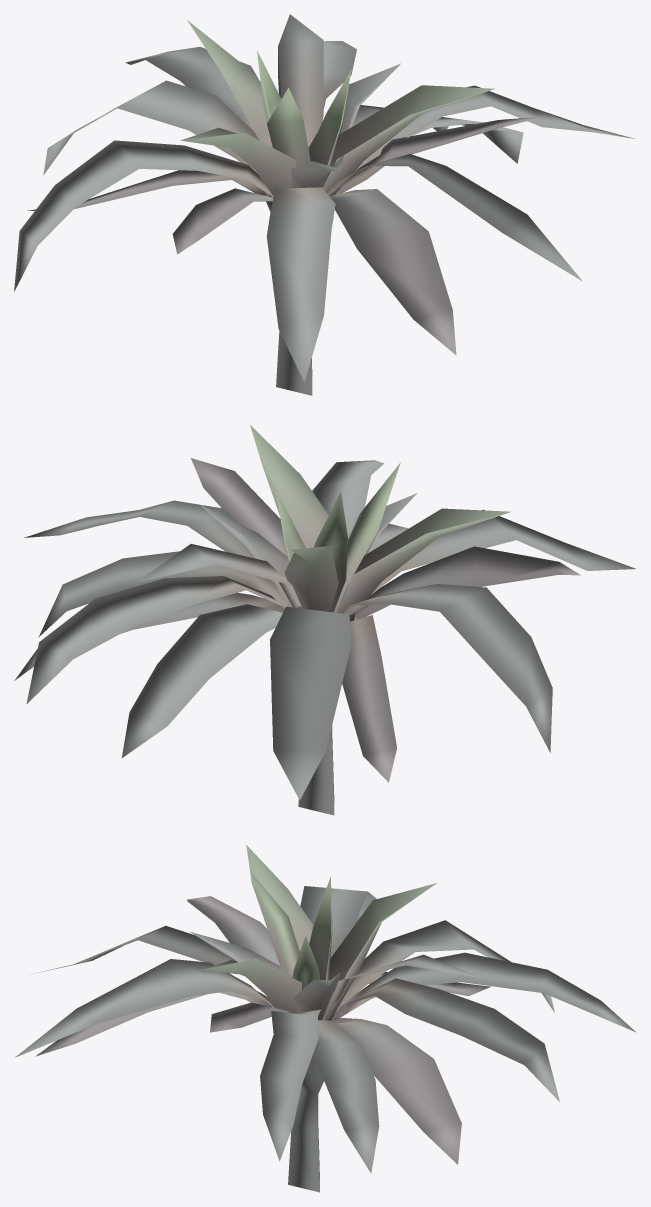
3 renders of one model, top to bottom at view 1: azimuth 30°, elevation 25°; view 2: azimuth 150°, elevation 25°; view 3: azimuth 270°, elevation 25°, orthographic. The views are drawn at different scales.
Visible parts, largest first — view 1: G:\FFXIV-MapTools\exports\s1f3\bg\ffxiv\sea_s1\fld\s1f3\bgpa; view 2: G:\FFXIV-MapTools\exports\s1f3\bg\ffxiv\sea_s1\fld\s1f3\bgpa; view 3: G:\FFXIV-MapTools\exports\s1f3\bg\ffxiv\sea_s1\fld\s1f3\bgpa.
Boxes of the visible parts, left/top/right/bottom form: G:\FFXIV-MapTools\exports\s1f3\bg\ffxiv\sea_s1\fld\s1f3\bgpa: left=14, top=14, right=635, bottom=395; G:\FFXIV-MapTools\exports\s1f3\bg\ffxiv\sea_s1\fld\s1f3\bgpa: left=14, top=425, right=635, bottom=815; G:\FFXIV-MapTools\exports\s1f3\bg\ffxiv\sea_s1\fld\s1f3\bgpa: left=14, top=845, right=636, bottom=1192.
Size of the model in its own units: 3.53 by 1.96 by 3.74.
